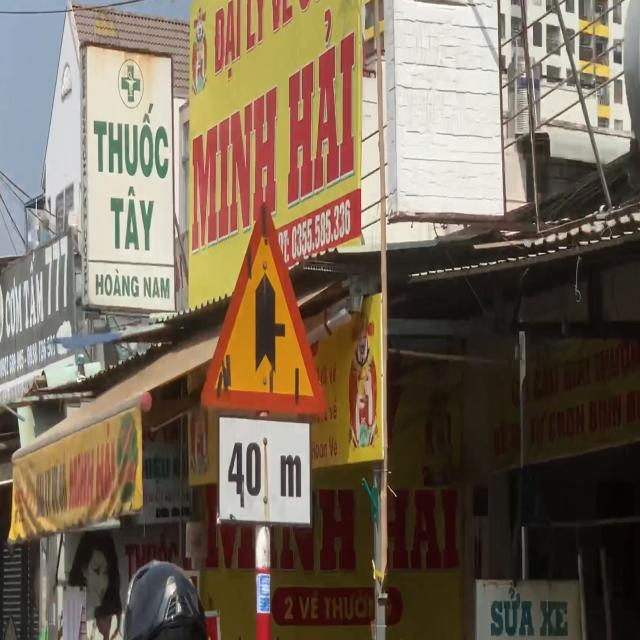Giao voi duong khong uu tien: (199, 198, 330, 418)
